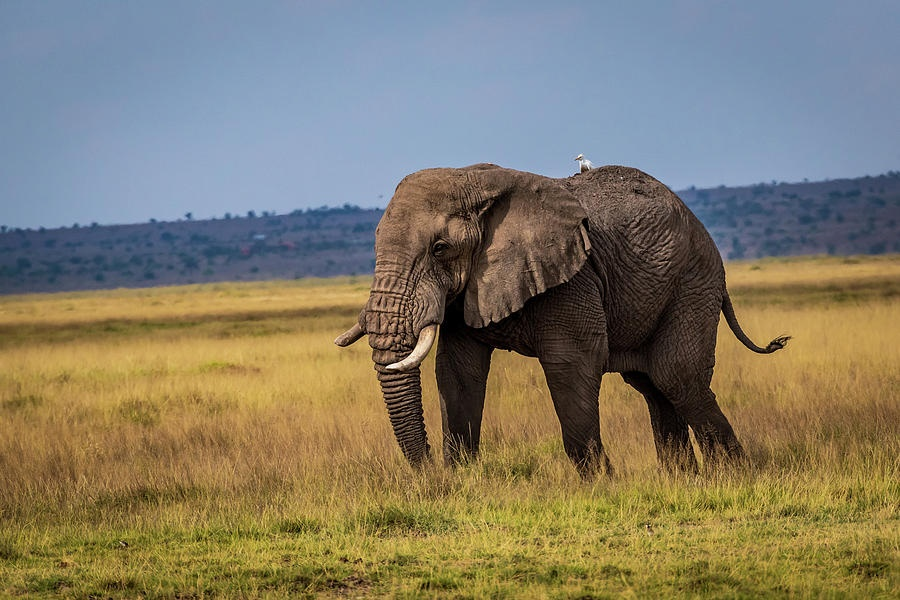elephant: (334, 158, 785, 479)
